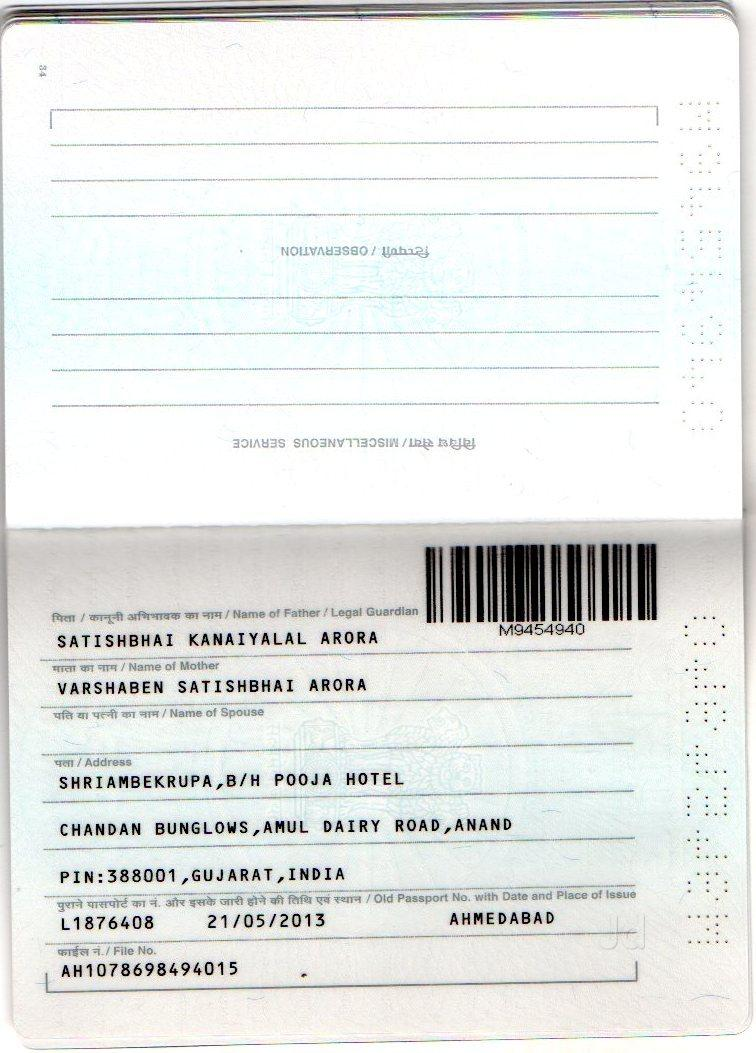File_no: (53, 959, 246, 987)
address: (47, 770, 531, 887)
father_name: (40, 624, 417, 653)
mother_name: (42, 668, 391, 704)
old_passport_details: (46, 906, 588, 938)
passport_no: (488, 617, 602, 642)
